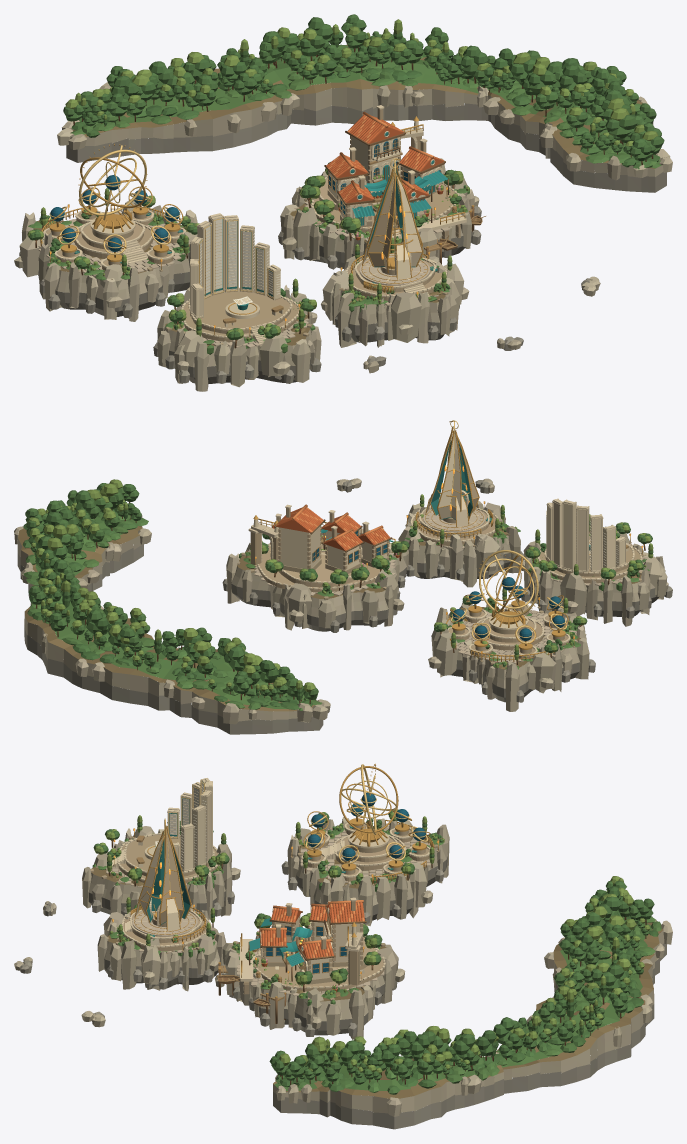
The model's file is atlas-world.glb.
The picture shows the model from 3 angles, top to bottom: view 1: azimuth 30°, elevation 25°; view 2: azimuth 150°, elevation 25°; view 3: azimuth 270°, elevation 25°; orthographic projection. The views are drawn at different scales.
Parts seen in each view (by area): view 1: ambient_foliage, ambient_cliff_light, ambient_cliff, ambient_moss, common_cliff_light, rocket_cliff_light, atlas_cliff_light, ambient_foliage_light, common_ivory, groot_cliff_light, ambient_soil, groot_ivory (+32 smaller); view 2: ambient_foliage, ambient_cliff_light, groot_cliff_light, rocket_cliff_light, ambient_foliage_light, ambient_cliff, ambient_moss, common_ivory, common_cliff_light, atlas_cliff_light, groot_ivory, groot_limestone (+27 smaller); view 3: ambient_foliage, ambient_cliff_light, ambient_cliff, groot_cliff_light, rocket_cliff_light, ambient_foliage_light, ambient_moss, atlas_cliff_light, common_cliff_light, common_ivory, ambient_soil, groot_ivory (+30 smaller).
Part boxes in pixels (box(x1,y1,x2,y2)): ambient_foliage: box(63, 14, 664, 169); ambient_cliff_light: box(57, 82, 672, 373); ambient_cliff: box(66, 103, 666, 369); ambient_moss: box(70, 44, 661, 168); common_cliff_light: box(157, 285, 321, 391); rocket_cliff_light: box(14, 199, 197, 321); atlas_cliff_light: box(321, 251, 469, 347); ambient_foliage_light: box(65, 19, 658, 146); common_ivory: box(181, 213, 300, 346); groot_cliff_light: box(280, 158, 479, 266); ambient_soil: box(71, 44, 654, 168); groot_ivory: box(311, 105, 466, 238); ambient_foliage: box(23, 483, 318, 709); ambient_cliff_light: box(14, 478, 494, 724); groot_cliff_light: box(226, 528, 408, 630); rocket_cliff_light: box(428, 598, 589, 711); ambient_foliage_light: box(27, 479, 315, 692); ambient_cliff: box(17, 480, 489, 734); ambient_moss: box(23, 515, 322, 710); common_ivory: box(538, 498, 642, 580); common_cliff_light: box(516, 526, 668, 626); atlas_cliff_light: box(398, 501, 520, 587); groot_ivory: box(248, 504, 391, 589); groot_limestone: box(250, 508, 392, 592); ambient_foliage: box(269, 880, 658, 1094); ambient_cliff_light: box(14, 901, 672, 1116); ambient_cliff: box(19, 902, 666, 1129); groot_cliff_light: box(215, 935, 405, 1039); rocket_cliff_light: box(287, 817, 449, 926); ambient_foliage_light: box(279, 876, 650, 1074); ambient_moss: box(274, 916, 661, 1092); atlas_cliff_light: box(97, 903, 226, 991); common_cliff_light: box(82, 826, 240, 920); common_ivory: box(112, 778, 219, 880); ambient_soil: box(273, 916, 663, 1098); groot_ivory: box(240, 897, 385, 988).
Bounding box in the file's own units: 36.63 × 9.57 × 35.91.
